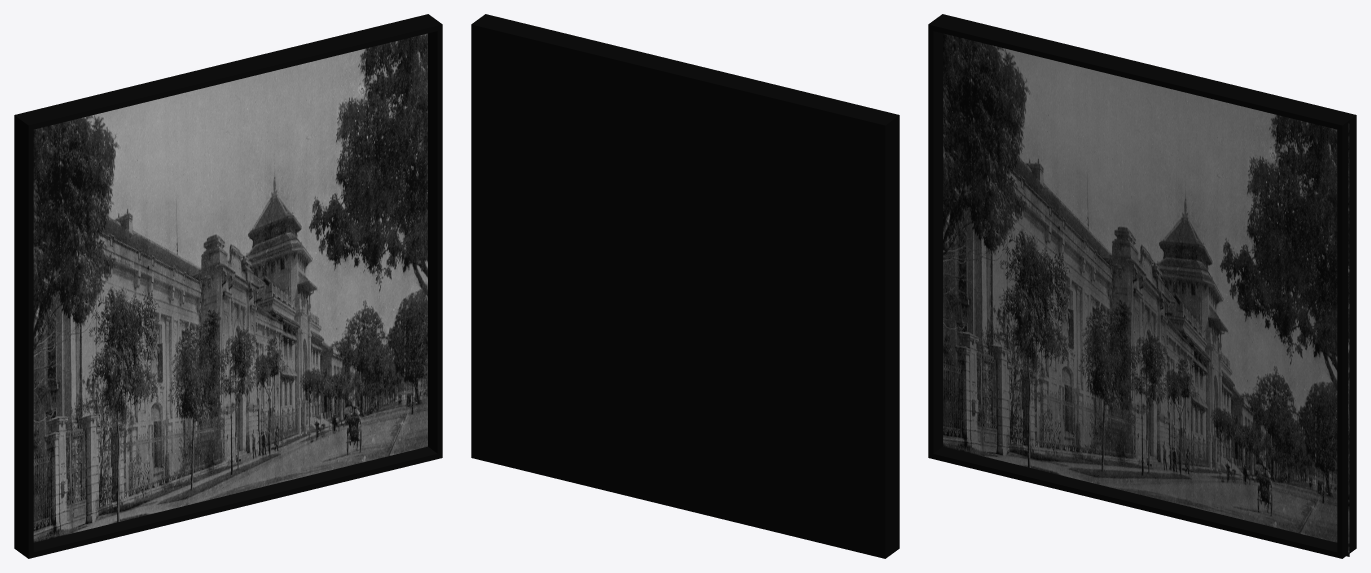
File: DHTH.obj
3 renders of one model, left to right at view 1: azimuth 30°, elevation 25°; view 2: azimuth 150°, elevation 25°; view 3: azimuth 330°, elevation 25°, orthographic.
Parts seen in each view (by area): view 1: Plane, Cube; view 2: Cube; view 3: Plane, Cube.
Part boxes in pixels (<box>): Plane: <box>33,33,427,542</box>; Cube: <box>14,14,442,558</box>; Cube: <box>471,14,899,558</box>; Plane: <box>943,33,1349,556</box>; Cube: <box>928,14,1356,558</box>.
Size of the model in its own units: 1 by 1 by 0.06.
2 materials, 1 textured.
